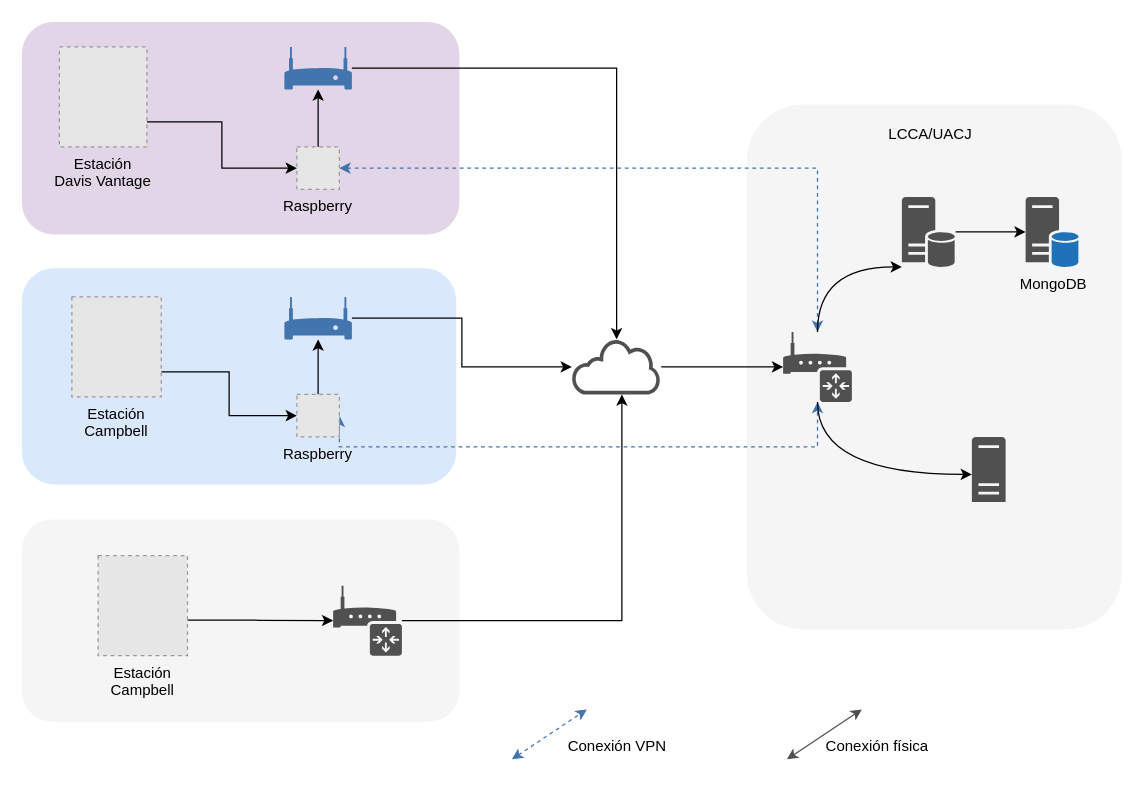
Image size: 1143x793. Some labels were removed from this diagram. Grey dashed boxes stand in for pictures. Each missing label, with the box of its shape:
MySQL: (901, 196, 955, 266)
Servidor Web: (971, 436, 1005, 501)
